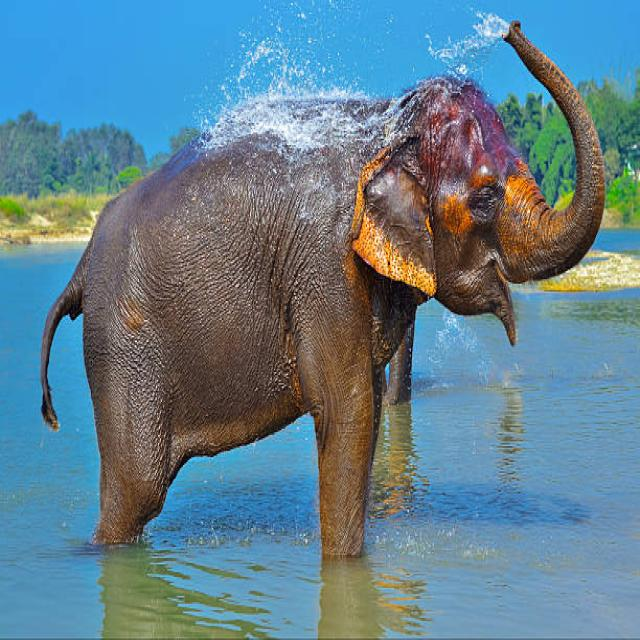Elephant: (34, 30, 609, 527)
